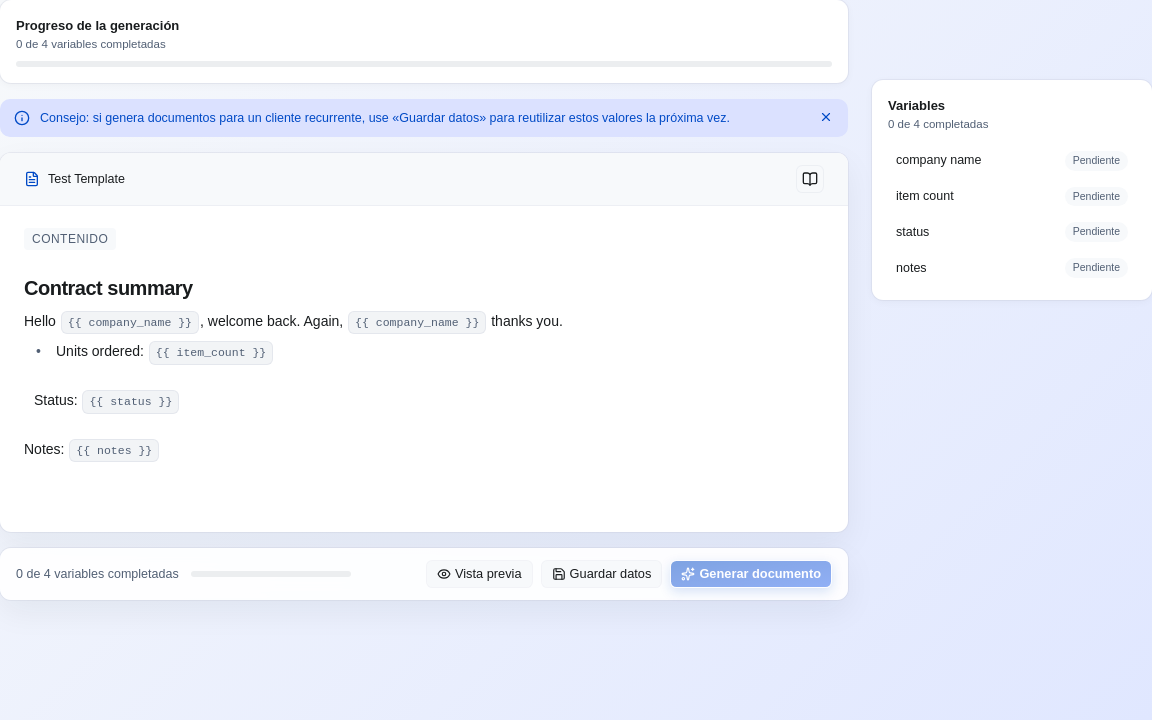
Test: FullDocumentEditor — inline pill editing › 3. Escape reverts to the previous committed value
This screenshot has width=1152, height=720.
Click the 1st button "{{ company_name }}" at (130, 323), box [61,311,199,334]
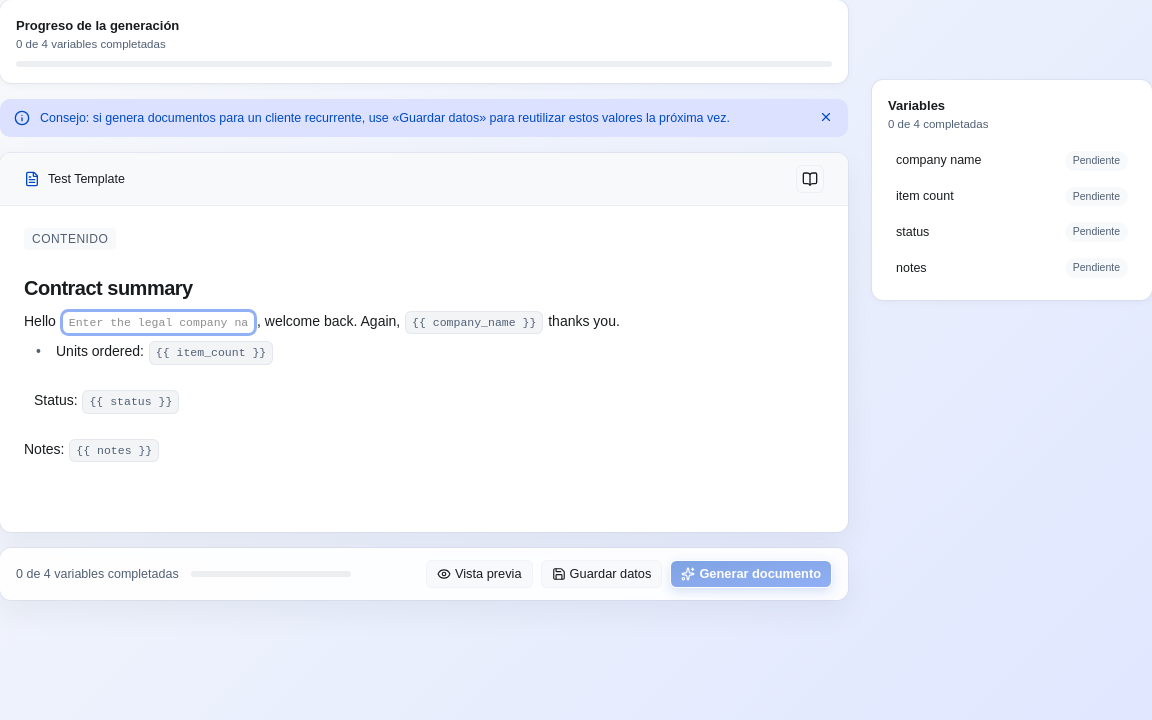
Type "Wrong Value" into the field at (158, 323), box [62,311,255,334]
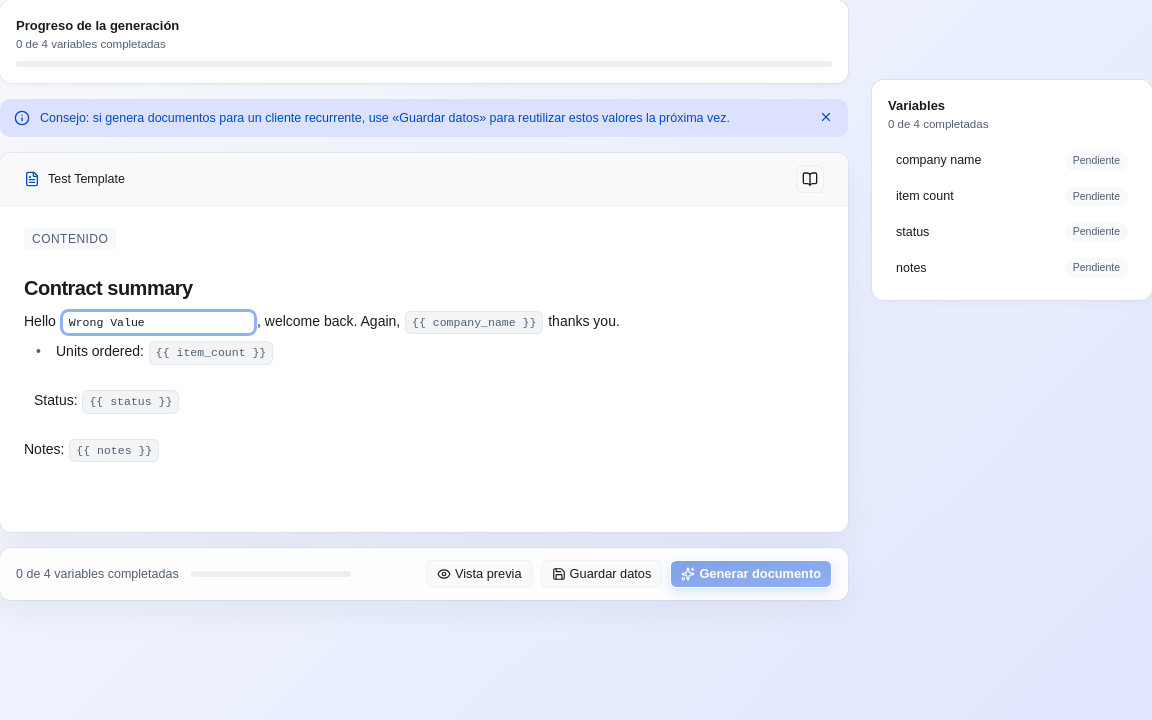
Press Escape
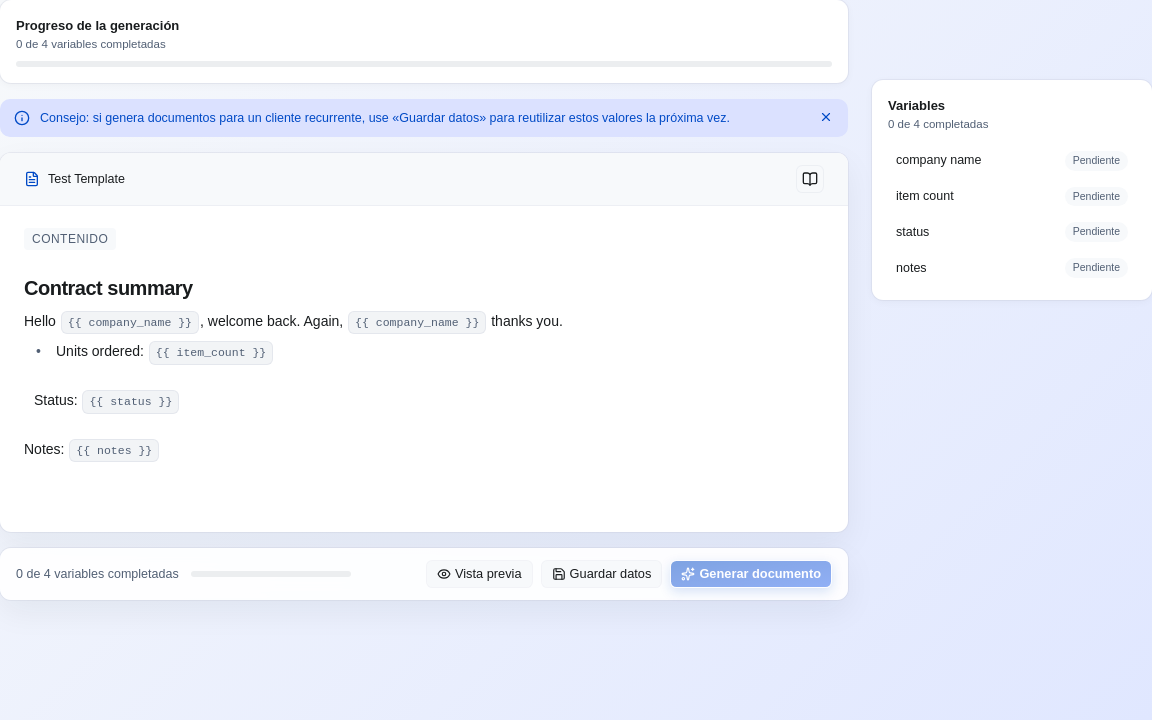
Expected: the text "Wrong Value" is not shown
Expected: no fields are shown
Expected: the number of buttons "{{ company_name }}" is 2, [61,311,199,334]; [348,311,486,334]
